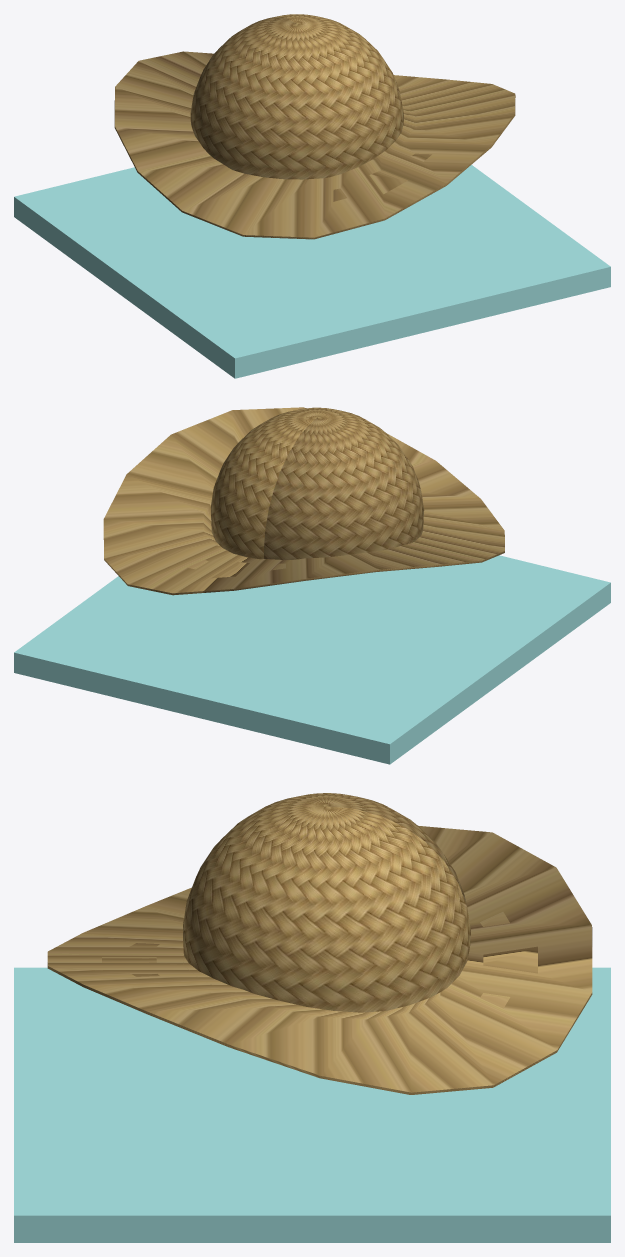
Rendered from sombrero.dae.
3 views of the same model, one above another, from view 1: azimuth 30°, elevation 25°; view 2: azimuth 150°, elevation 25°; view 3: azimuth 270°, elevation 25° (orthographic). The views are drawn at different scales.
Parts seen in each view (by area): view 1: Box001, Cylinder001, Sphere001; view 2: Box001, Cylinder001, Sphere001; view 3: Box001, Cylinder001, Sphere001.
Boxes of the visible parts, bbox=[...] form: Box001: bbox=[14, 165, 610, 378]; Cylinder001: bbox=[114, 51, 515, 239]; Sphere001: bbox=[190, 14, 403, 179]; Box001: bbox=[14, 555, 610, 764]; Cylinder001: bbox=[103, 407, 504, 595]; Sphere001: bbox=[211, 407, 424, 559]; Box001: bbox=[14, 967, 610, 1242]; Cylinder001: bbox=[47, 825, 592, 1094]; Sphere001: bbox=[183, 793, 470, 1012].
Bounding box in the file's own units: 134 × 136 × 76.97.
Materials: 3 (2 with a texture image).
